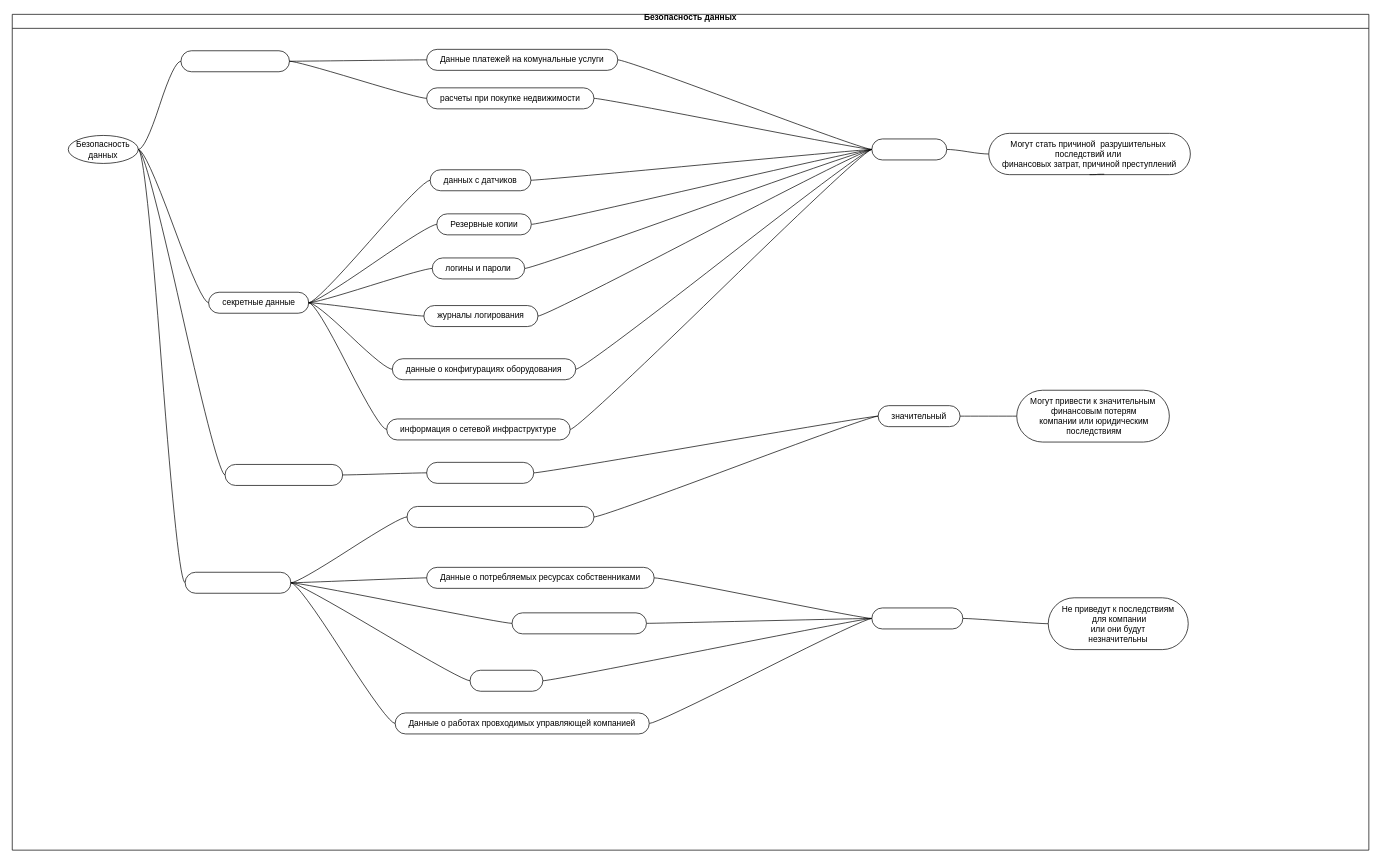
Some shapes in this 1381 by 862 pixel diagram are drawn without their labels. Each missing label, with the box of its shape:
Внутренние данные: (184, 572, 291, 593)
Информация об управляющей компании: (406, 506, 594, 527)
критический: (871, 138, 947, 160)
незначительный: (871, 607, 963, 629)
Паспортные данные: (426, 462, 534, 483)
Персональные данные: (224, 464, 343, 485)
планировка: (469, 670, 543, 691)
сферические фоторграфии: (511, 612, 646, 634)
Финансовые данные: (180, 50, 289, 72)
